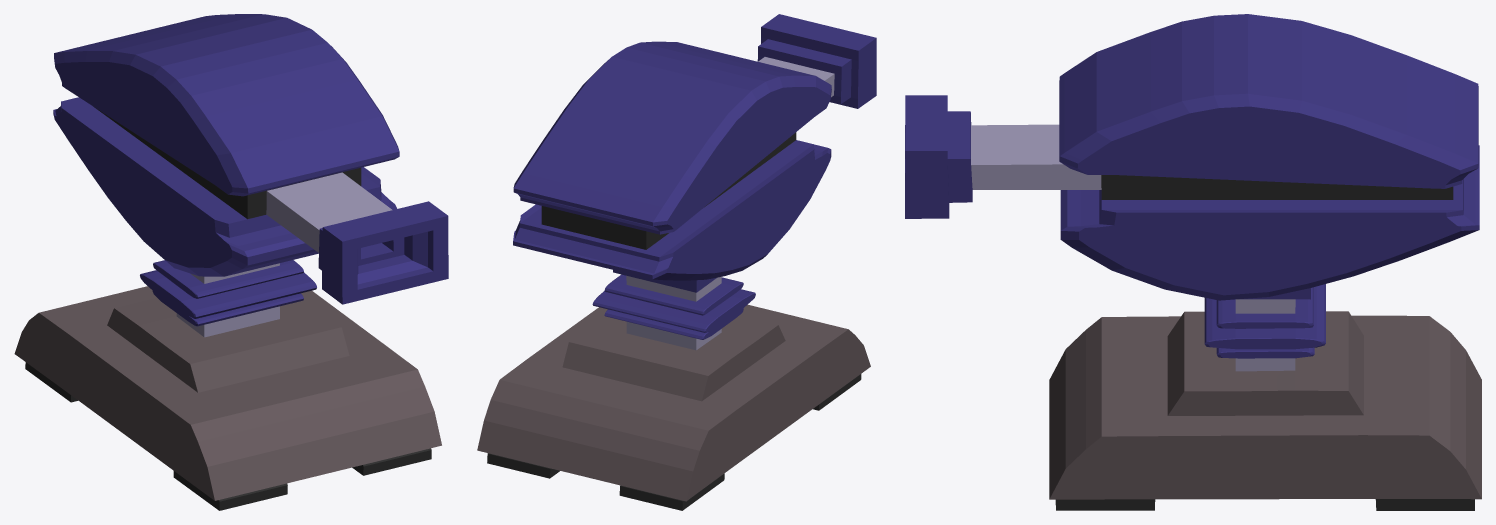
The model's file is GunTurret_SeamMarked.fbx.
3 renders of one model, left to right at view 1: azimuth 30°, elevation 25°; view 2: azimuth 150°, elevation 25°; view 3: azimuth 270°, elevation 25°, orthographic. The views are drawn at different scales.
Parts seen in each view (by area): view 1: Gun_Turret_Top, Gun_Turret_Bottom; view 2: Gun_Turret_Top, Gun_Turret_Bottom; view 3: Gun_Turret_Top, Gun_Turret_Bottom.
Boxes of the visible parts, x1,y1,x2,y2 form: Gun_Turret_Top: (53, 14, 448, 304); Gun_Turret_Bottom: (14, 260, 441, 510); Gun_Turret_Top: (513, 14, 876, 292); Gun_Turret_Bottom: (477, 274, 870, 510); Gun_Turret_Top: (905, 14, 1479, 300); Gun_Turret_Bottom: (1049, 284, 1481, 510).
Bounding box in the file's own units: 127 × 199 × 259.
